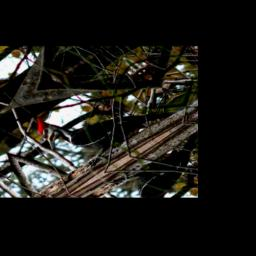Woodpecker: (22, 68, 180, 175)
